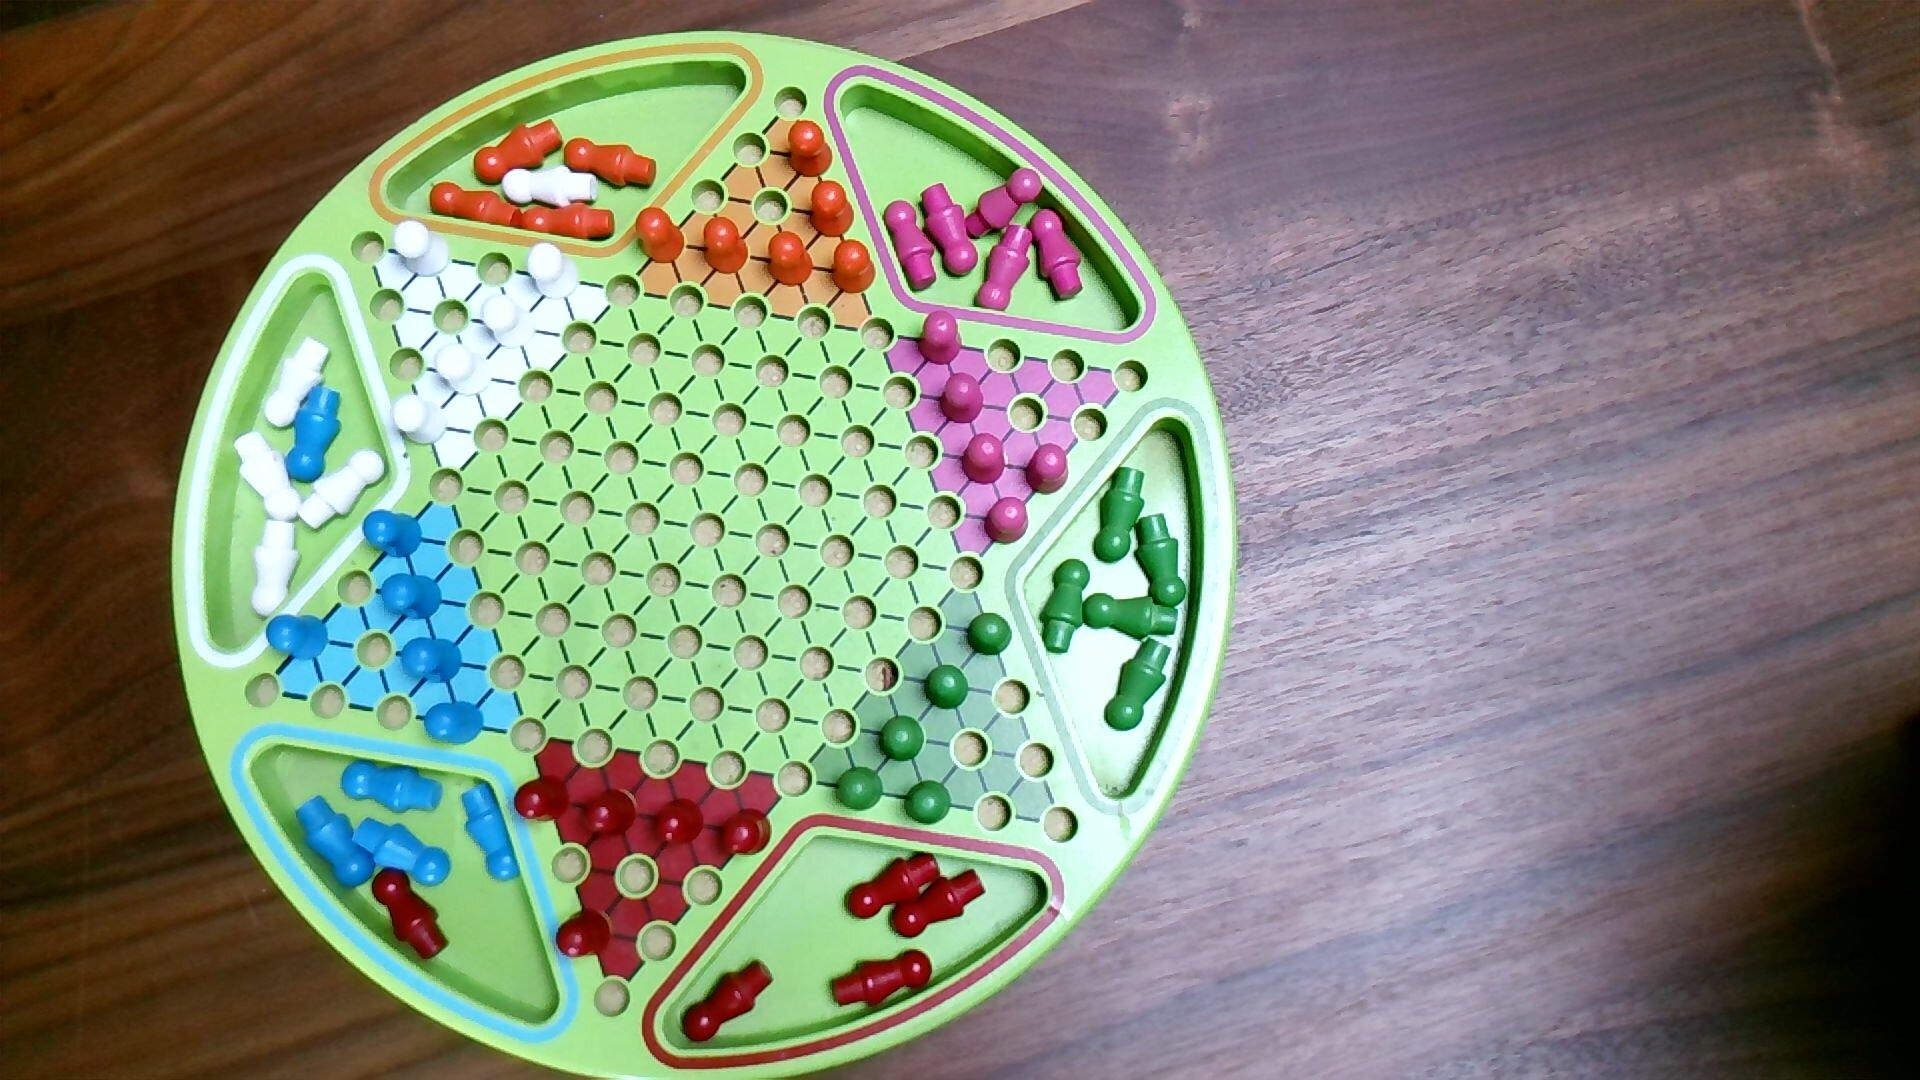B: (360, 508, 425, 562), (398, 636, 465, 687), (266, 612, 331, 665), (380, 571, 444, 624), (425, 698, 487, 749)
G: (833, 764, 886, 814), (877, 713, 928, 764), (922, 662, 972, 713), (902, 778, 955, 827), (965, 611, 1015, 659)
O: (633, 202, 688, 268), (700, 214, 752, 278), (786, 116, 836, 179), (808, 177, 857, 240), (767, 227, 816, 289), (828, 237, 878, 295)
R: (554, 905, 617, 961), (579, 783, 641, 840), (512, 774, 574, 825), (717, 804, 775, 858), (654, 794, 707, 849)
R2: (959, 429, 1009, 488), (916, 309, 965, 369), (938, 369, 986, 427), (1022, 440, 1071, 497), (981, 495, 1033, 547)
W: (392, 218, 456, 281), (433, 342, 496, 401), (480, 291, 539, 353), (526, 240, 584, 303), (392, 392, 451, 448)
